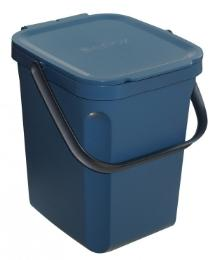SEAU: (1, 4, 218, 253)
